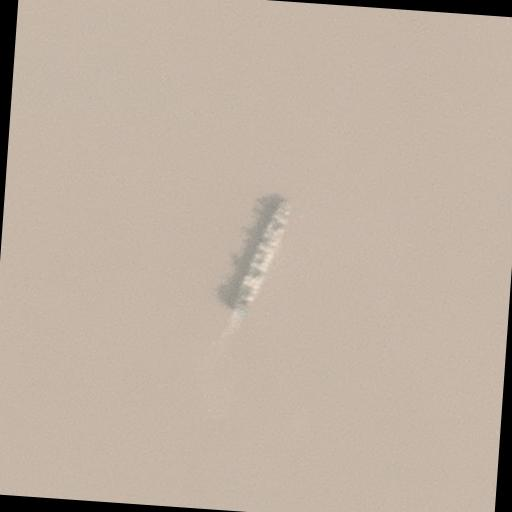ship: (224, 194, 288, 318)
